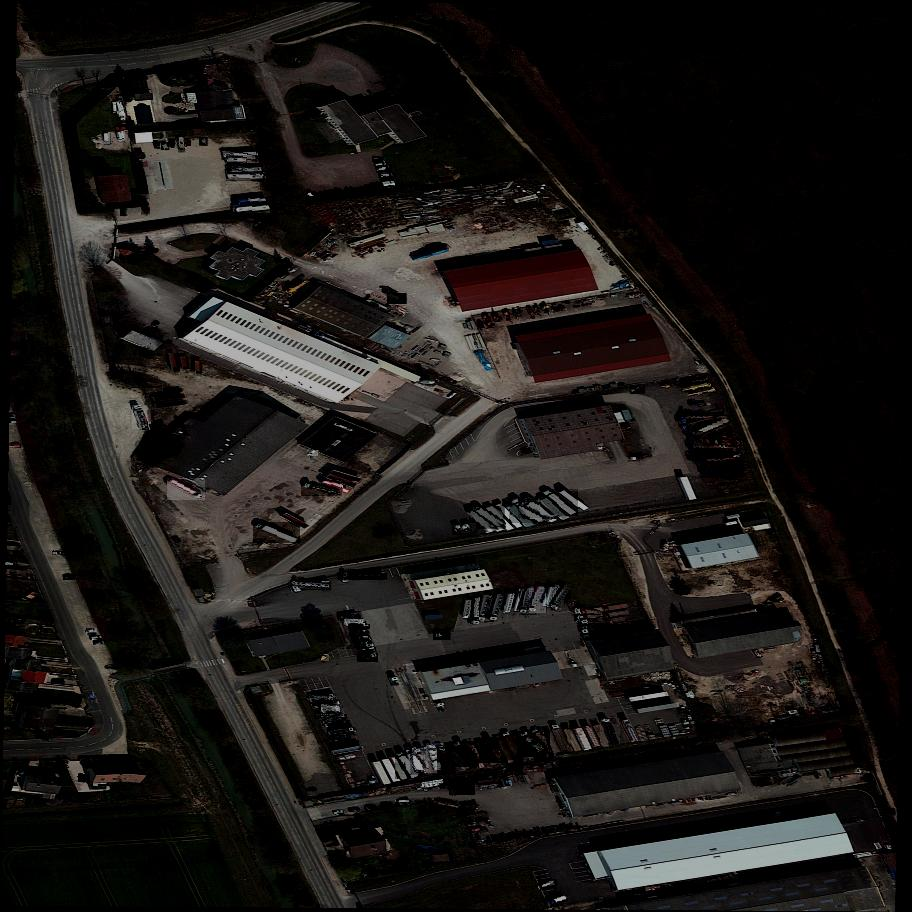large-vehicle: (540, 487, 578, 518), (253, 522, 300, 545), (686, 418, 731, 442), (509, 497, 546, 526), (518, 729, 550, 759), (519, 498, 560, 521), (469, 505, 505, 531), (449, 740, 480, 770), (167, 477, 205, 501), (395, 749, 422, 781), (701, 458, 743, 478), (499, 730, 525, 762), (479, 737, 508, 764), (549, 722, 571, 757), (535, 728, 555, 763), (600, 715, 620, 749), (682, 416, 727, 431), (413, 745, 437, 772), (550, 585, 573, 613), (688, 448, 734, 462), (438, 745, 457, 777), (529, 585, 549, 615), (302, 483, 342, 498), (427, 741, 444, 775), (578, 615, 610, 633), (227, 164, 264, 179), (581, 629, 627, 641), (132, 403, 151, 432), (489, 593, 506, 623), (687, 437, 737, 447), (520, 588, 537, 617), (480, 594, 495, 623), (676, 412, 724, 421), (221, 150, 258, 161), (450, 780, 475, 796), (290, 581, 330, 591), (411, 745, 424, 775), (321, 714, 347, 728), (573, 606, 605, 616), (471, 596, 482, 625), (578, 625, 631, 631), (226, 174, 264, 182), (233, 205, 270, 213), (694, 457, 741, 463), (327, 727, 355, 737), (331, 732, 351, 745), (225, 155, 248, 166), (546, 895, 567, 907), (339, 611, 360, 623), (388, 292, 407, 305), (338, 574, 387, 579), (461, 521, 478, 535), (349, 628, 369, 639), (539, 879, 557, 891), (433, 629, 451, 641), (453, 522, 466, 538), (309, 694, 334, 702), (332, 720, 350, 731), (575, 615, 606, 621), (233, 198, 267, 203), (344, 619, 365, 627), (313, 700, 337, 707), (321, 705, 340, 713), (352, 636, 370, 644), (306, 190, 318, 201), (349, 625, 370, 631), (354, 643, 371, 649), (117, 131, 126, 142), (179, 137, 185, 152), (315, 714, 335, 718), (357, 647, 375, 651), (162, 142, 169, 151), (105, 133, 110, 144), (395, 800, 410, 803), (6, 563, 17, 567)
small-vehicle: (357, 653, 378, 663), (377, 164, 392, 174), (630, 384, 645, 394), (379, 173, 395, 180), (752, 813, 762, 824), (308, 449, 319, 459), (380, 802, 392, 811), (141, 206, 150, 217), (597, 839, 606, 849), (78, 774, 87, 784), (199, 137, 209, 146), (773, 810, 782, 819), (321, 654, 330, 663), (253, 222, 263, 230), (86, 629, 97, 636), (379, 170, 391, 176), (184, 138, 192, 147), (63, 574, 75, 580), (93, 640, 105, 646), (373, 157, 384, 163), (51, 679, 64, 684), (9, 443, 20, 448), (333, 811, 344, 816), (375, 162, 387, 166), (154, 141, 160, 148), (169, 140, 175, 146), (105, 665, 117, 668), (121, 208, 126, 215), (91, 636, 102, 639), (349, 808, 359, 811), (89, 693, 94, 698), (365, 806, 375, 808), (53, 553, 62, 555), (306, 789, 316, 790)
